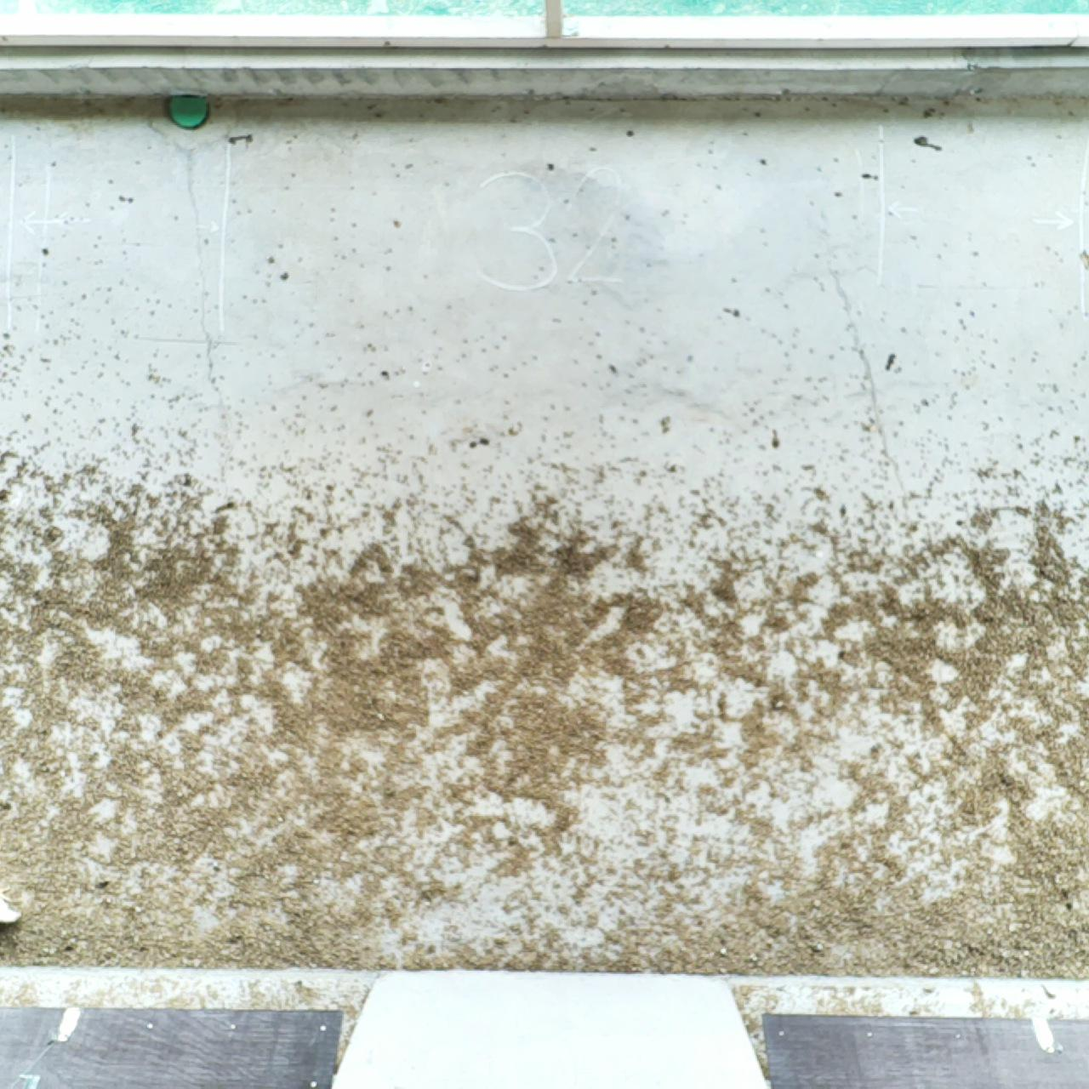chicken: (0, 880, 26, 928)
